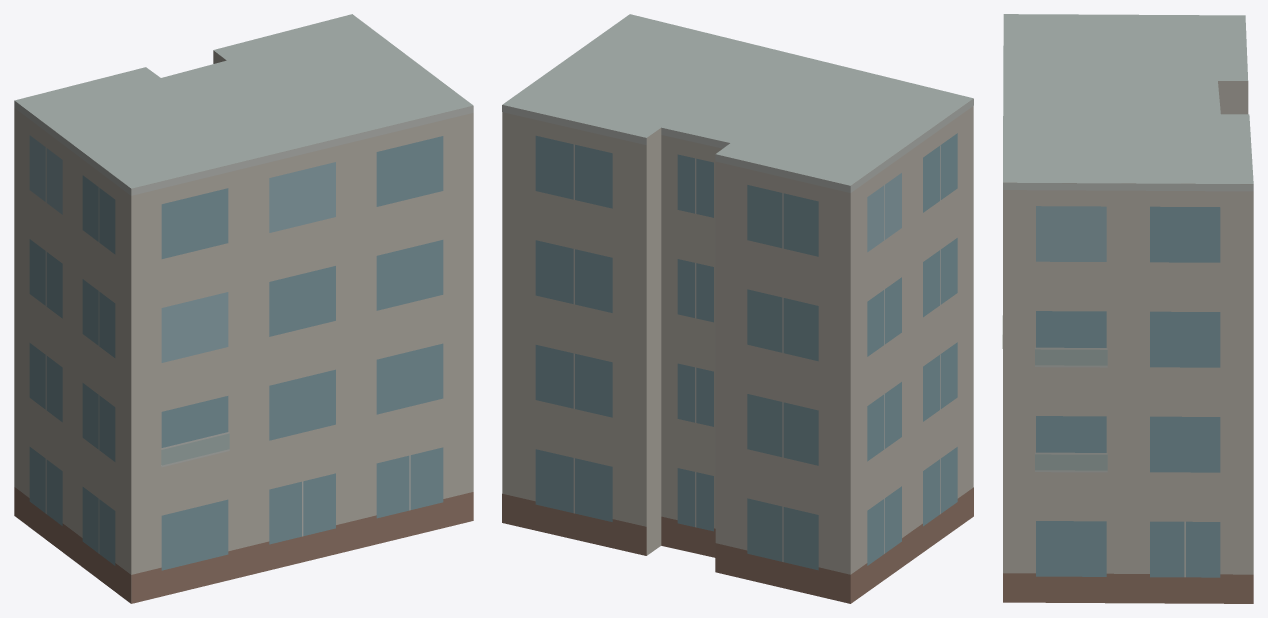
Rendered from survey-upis-33018014.glb.
3 renders of one model, left to right at view 1: azimuth 30°, elevation 25°; view 2: azimuth 150°, elevation 25°; view 3: azimuth 270°, elevation 25°, orthographic.
Visible parts, largest first — view 1: survey-upis-33018014.tmp; view 2: survey-upis-33018014.tmp; view 3: survey-upis-33018014.tmp.
Boxes of the visible parts, x1,y1,x2,y2 form: survey-upis-33018014.tmp: (14,14,473,603); survey-upis-33018014.tmp: (502,14,973,603); survey-upis-33018014.tmp: (1002,14,1253,603).
Bounding box in the file's own units: 12.18 × 14 × 7.61.
